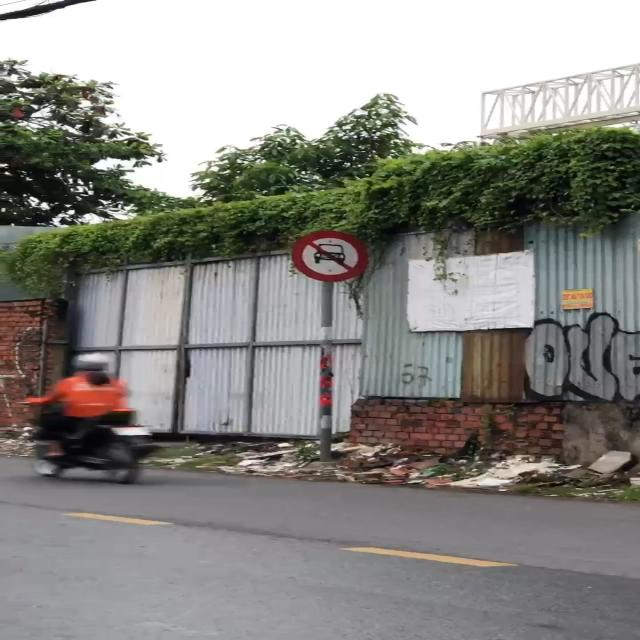Bien bao cam xe oto: (291, 229, 376, 284)
